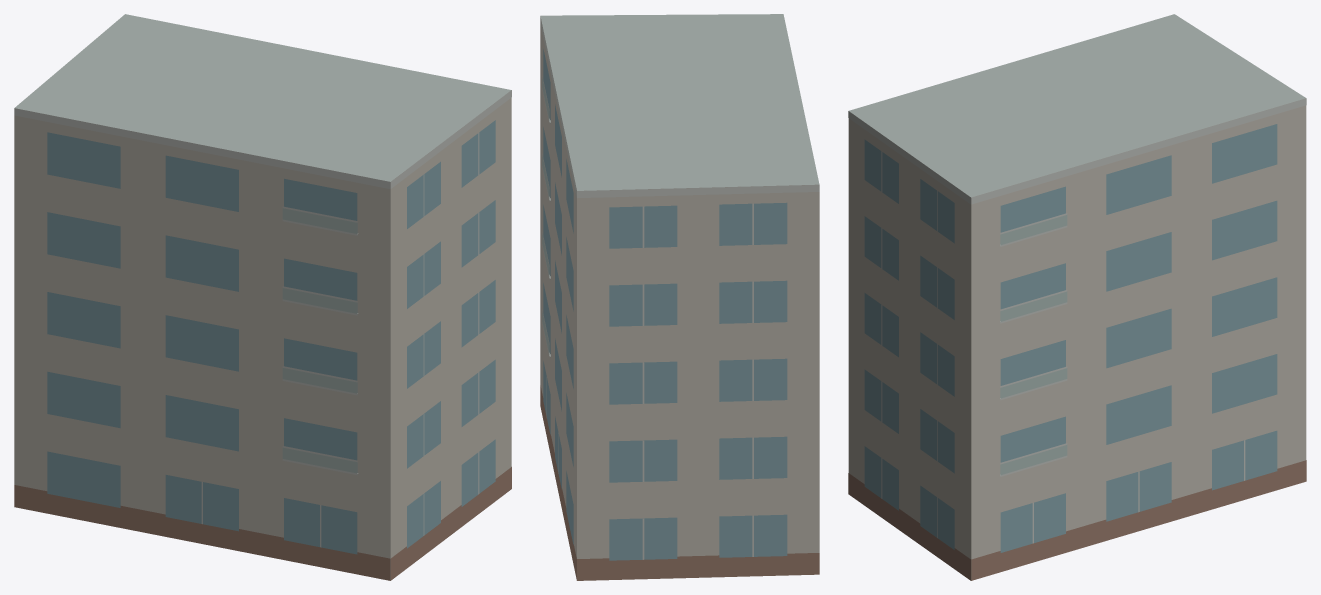
File: survey-upis-32892607.glb
3 renders of one model, left to right at view 1: azimuth 30°, elevation 25°; view 2: azimuth 150°, elevation 25°; view 3: azimuth 270°, elevation 25°, orthographic. The views are drawn at different scales.
Parts seen in each view (by area): view 1: survey-upis-32892607.tmp; view 2: survey-upis-32892607.tmp; view 3: survey-upis-32892607.tmp.
Part boxes in pixels (left/top/right/bottom): survey-upis-32892607.tmp: left=14, top=14, right=511, bottom=580; survey-upis-32892607.tmp: left=540, top=14, right=819, bottom=580; survey-upis-32892607.tmp: left=848, top=14, right=1306, bottom=580.
Bounding box in the file's own units: 13.56 × 13.2 × 14.3.
